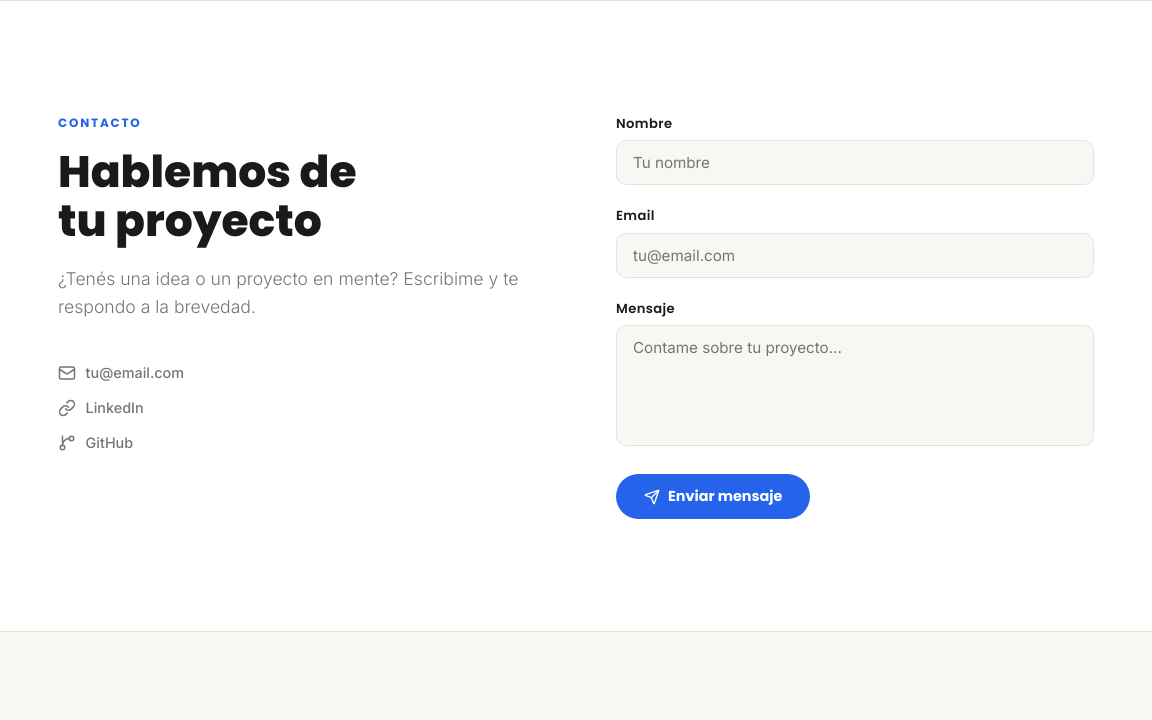
Test: Contact › muestra mensaje de éxito al enviar
In the field labelled "Nombre": (855,163) [616, 140, 1094, 185], type "Juan"
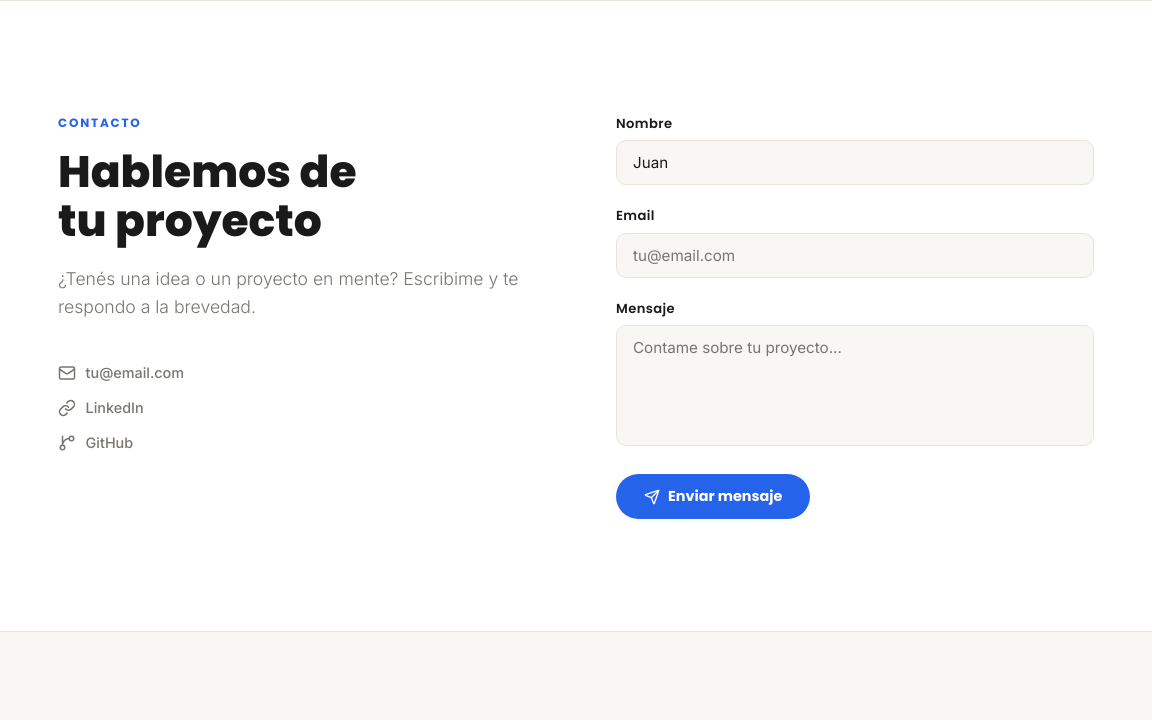
In the field labelled "Email": (855,255) [616, 233, 1094, 278], type "juan@test.com"
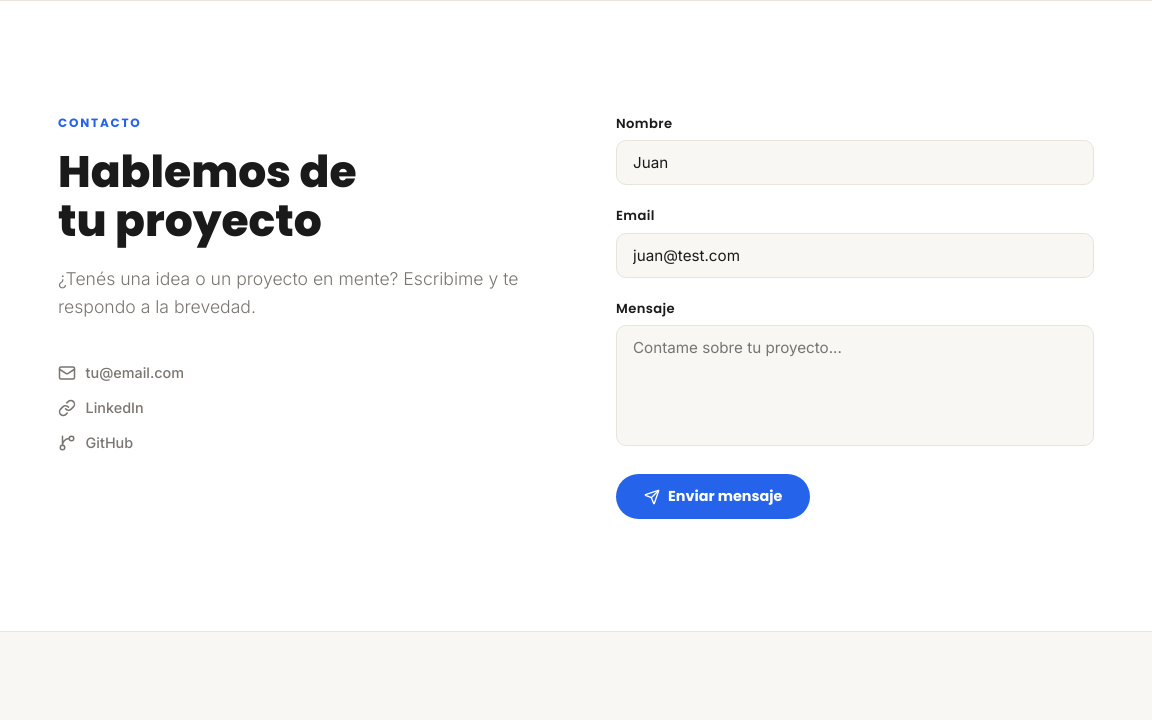
In the text box labelled "Mensaje": (855,386) [616, 325, 1094, 446], type "Hola"
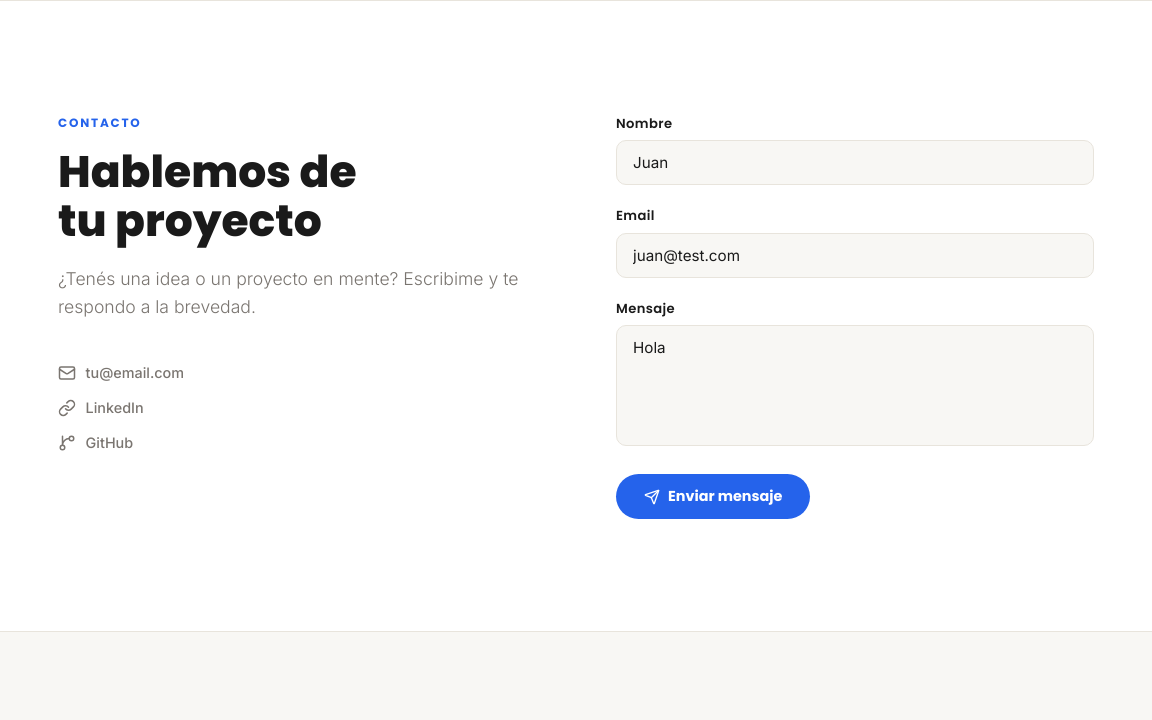
Click the button "Enviar mensaje": (713,497) [616, 474, 810, 519]
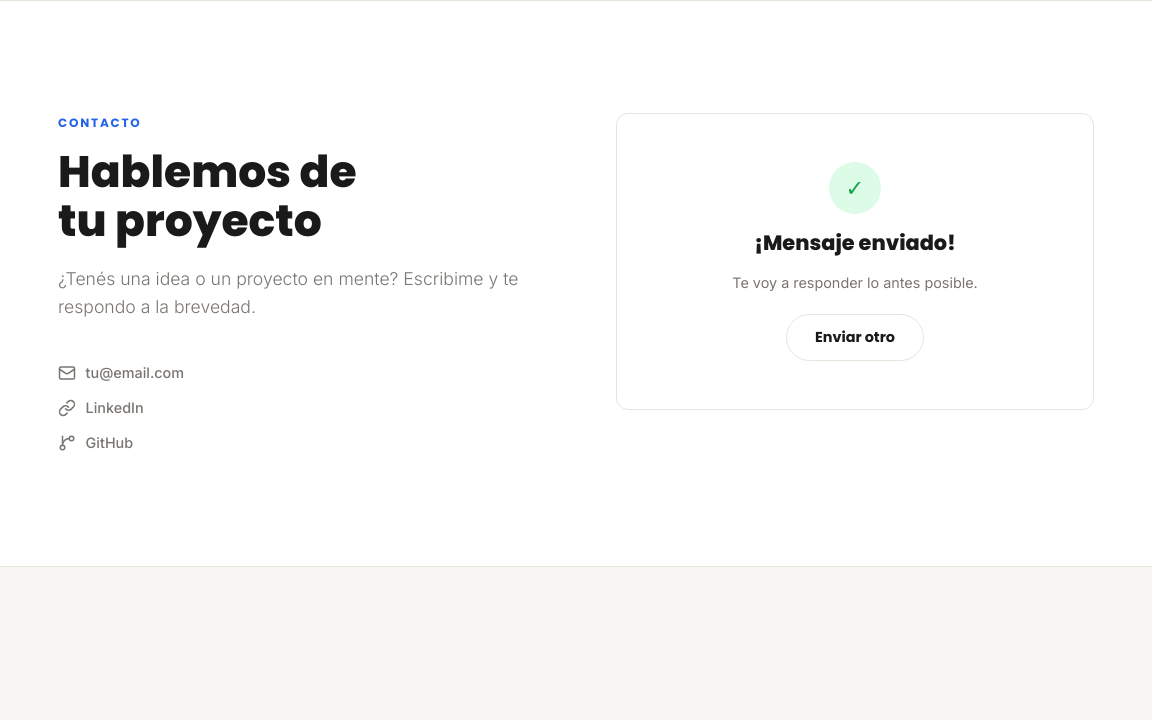
Result: the heading "¡Mensaje enviado!" is shown at [754, 226, 956, 259]
